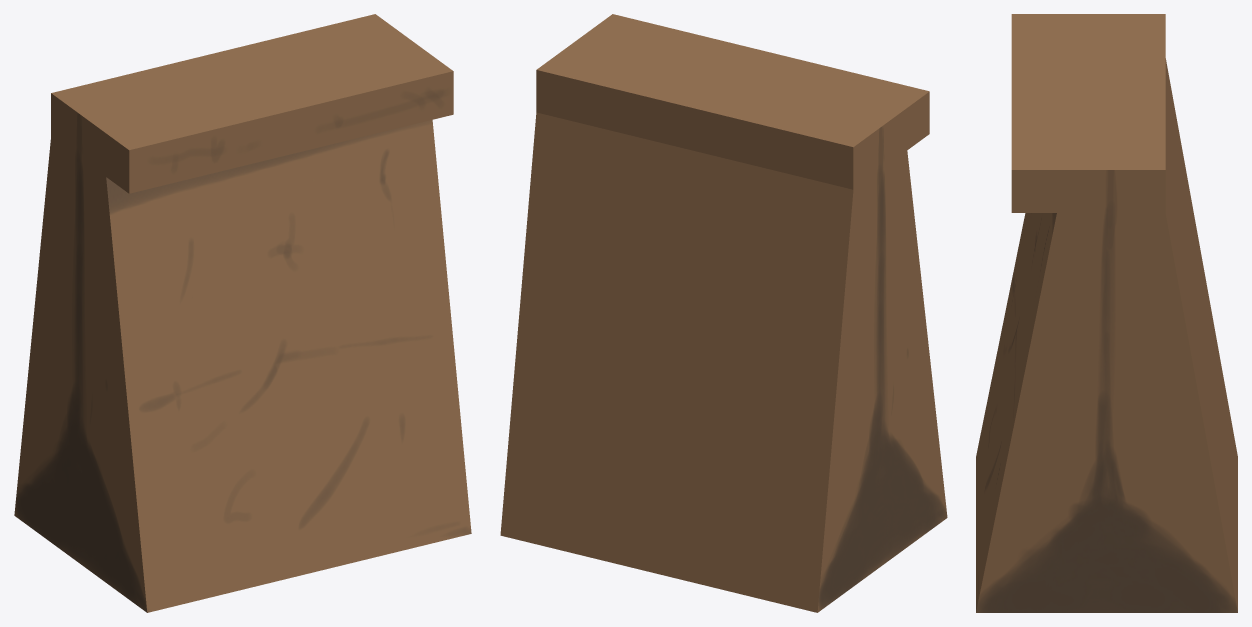
The model's file is Paper_bag.fbx.
3 renders of one model, left to right at view 1: azimuth 30°, elevation 25°; view 2: azimuth 150°, elevation 25°; view 3: azimuth 270°, elevation 25°, orthographic. The views are drawn at different scales.
Parts seen in each view (by area): view 1: paper_bag; view 2: paper_bag; view 3: paper_bag.
Boxes of the visible parts, <box> form: paper_bag: <box>14,14,471,612</box>; paper_bag: <box>500,14,947,612</box>; paper_bag: <box>976,14,1237,612</box>.
Size of the model in its own units: 2.09 by 2.76 by 1.48.
Materials: 1 (1 with a texture image).
